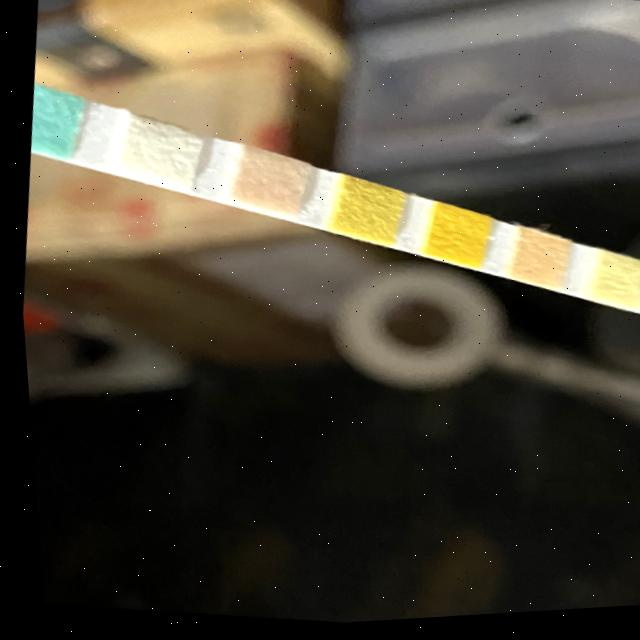Bilirubin: (122, 125, 189, 183)
Blood: (428, 213, 483, 265)
Glucose: (25, 94, 76, 146)
Ketone: (234, 157, 301, 212)
Protein: (590, 262, 640, 309)
SpGravity: (334, 187, 393, 243)
pH: (511, 238, 561, 288)
